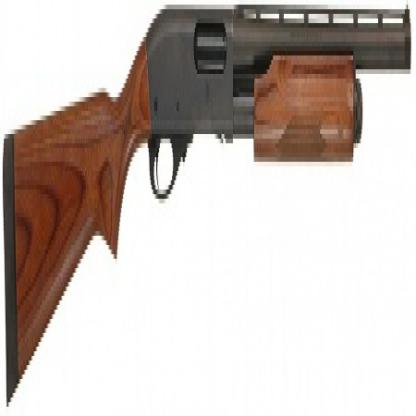Guns: (1, 0, 416, 412)
